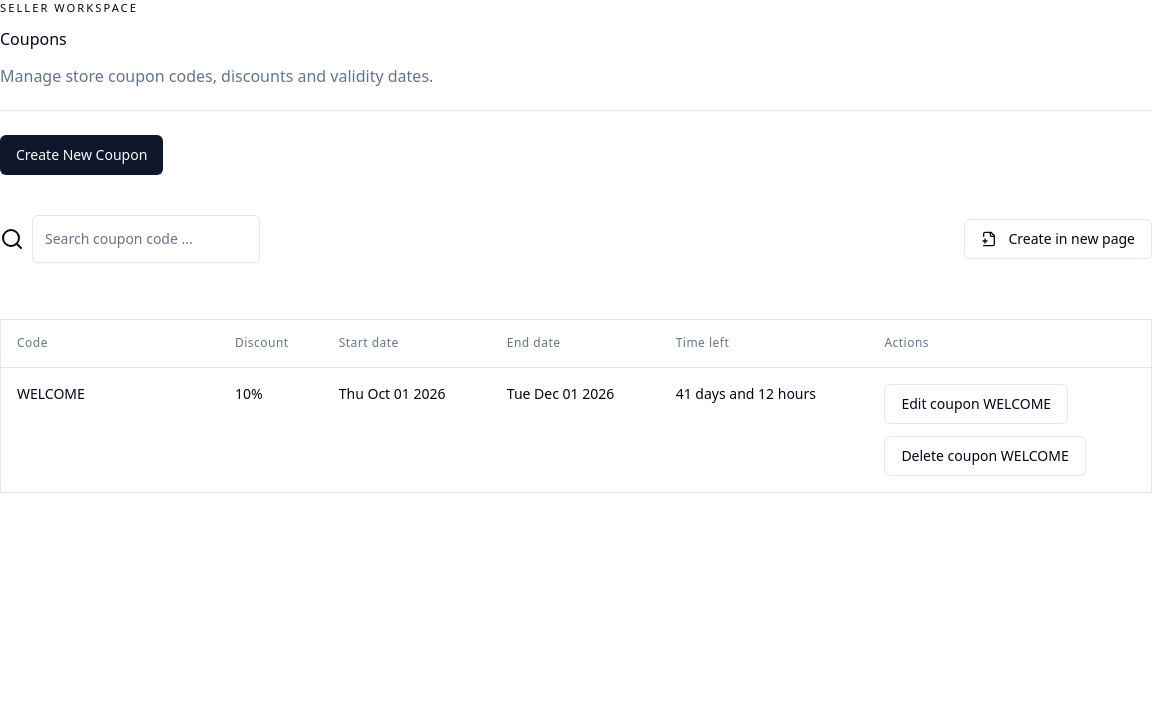
SellerCoupons dialog › 一覧の割引率・残り時間を描画し、編集時に最新値を取得してフォームへ渡す
Expected: the text "10%" is shown, x1=235 y1=384 x2=263 y2=403
Expected: the text "41 days and 12 hours" is shown, x1=676 y1=384 x2=816 y2=403
Click the button "Edit coupon WELCOME" at {"x": 976, "y": 404}, box x1=884 y1=384 x2=1068 y2=424
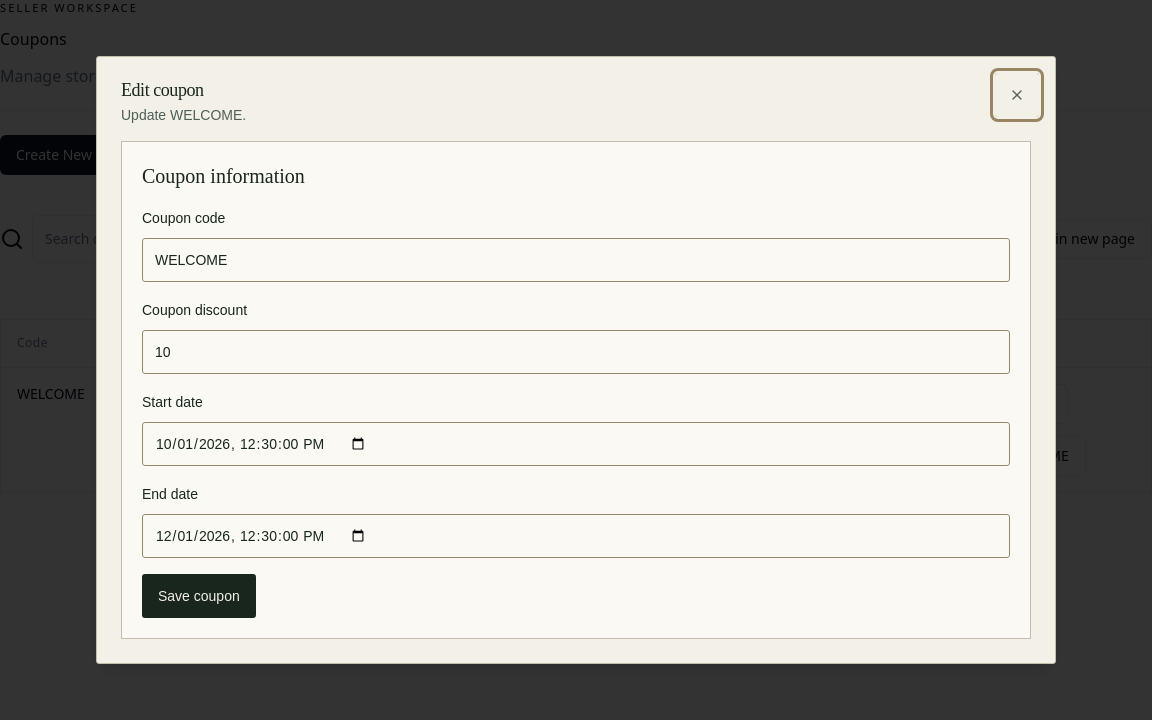
Now the field labelled "Coupon code" holds "WELCOME", box x1=142 y1=238 x2=1010 y2=282
